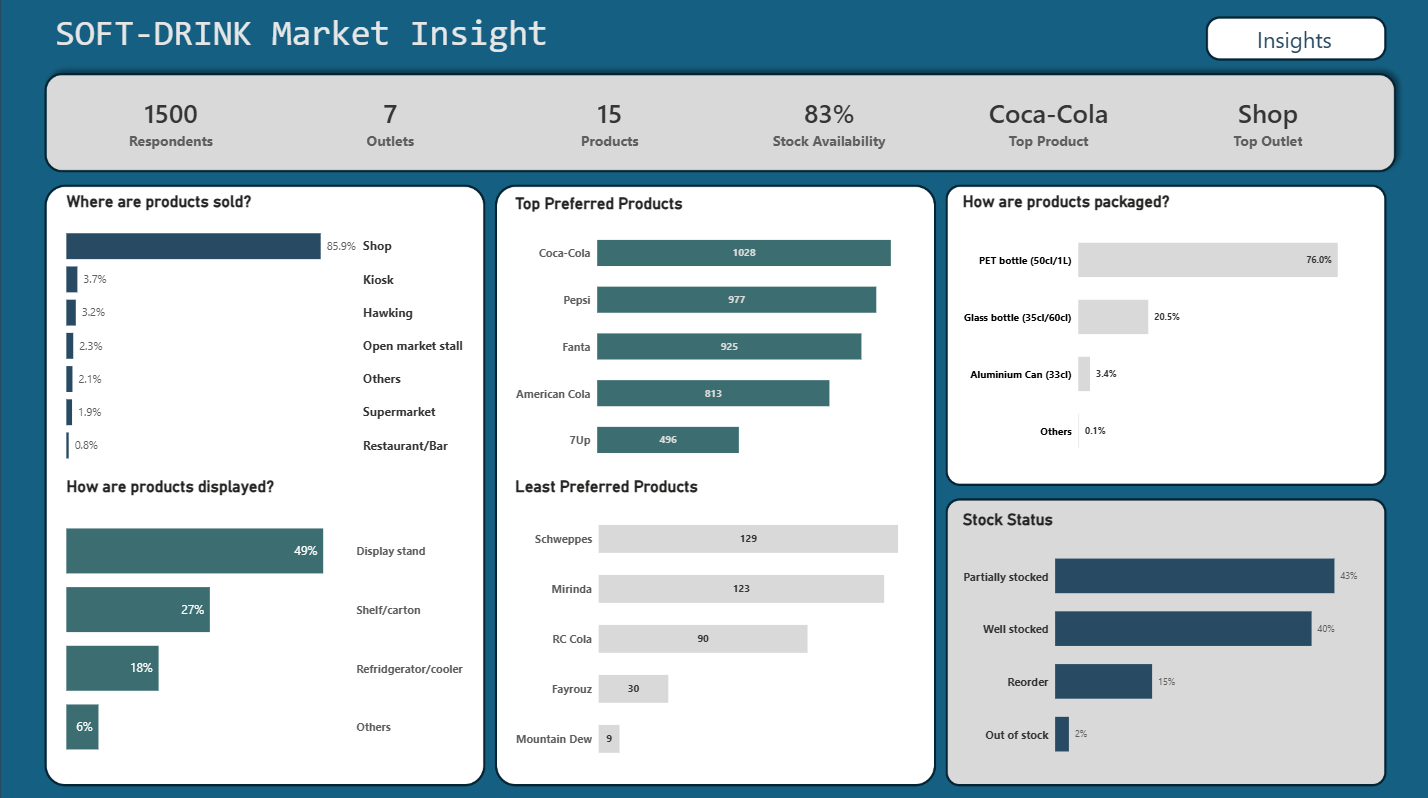

What the dashboard file says about the page in this screenshot:
{"tool":"powerbi","page":{"name":"Analysis","canvas":[1920,1080],"ordinal":2},"visuals":[{"type":"cardVisual","fields":{"Data":["_Measures.Respondents","_Measures.Outlet Count","_Measures.Product","_Measures.Stock Availability (%)","_Measures.Top Product","_Measures.Top Outlet"]},"box":[70.3,105.5,1792.2,130.6],"z":0},{"type":"actionButton","title":"Insights","box":[1621.7,33.5,229,50.3],"z":1000,"group":"g1"},{"type":"clusteredBarChart","title":"How are products displayed?","fields":{"Category":["Display.displayType"],"Y":["Sum(Display.displayCount)"]},"box":[85.4,646.5,542.7,403.7],"z":1000},{"type":"clusteredBarChart","title":"Where are products sold?","fields":{"Category":["Dim_Outlet.OutletType"],"Y":["CountNonNull(Fact.OutletID)"]},"box":[85.4,264.6,542.7,380.2],"z":2000},{"type":"clusteredBarChart","title":"Least Preferred Products","fields":{"Category":["Products.Attribute"],"Y":["_Measures.Produts"]},"box":[686.7,646.5,554.4,403.7],"z":3000},{"type":"clusteredBarChart","title":"Top Preferred  Products","fields":{"Category":["Products.Attribute"],"Y":["_Measures.Produts"]},"box":[686.7,266.3,554.4,380.2],"z":4000},{"type":"clusteredBarChart","title":"How are products packaged?","fields":{"Category":["PackageType.packageType"],"Y":["Sum(PackageType.packageTypeCount)"]},"box":[1286.4,264.6,552.7,381.9],"z":5000},{"type":"clusteredBarChart","title":"Stock Status","fields":{"Category":["Fact.Stock condition"],"Y":["CountNonNull(Fact.Stock condition)"]},"box":[1286.4,690.1,541,360.1],"z":6000},{"type":"textbox","box":[70.3,18.4,929.6,87.1],"z":7000},{"type":"group","id":"g1","title":"Insight panel","box":[675,32.5,1177.4,996.5],"z":8000}]}

Visuals, with their boxes in screenshot pixels (x1, y1, x2, y2), scaled from the page's 1920x1080 canvas onto the 1428x798 screenshot:
cardVisual - _Measures.Respondents x _Measures.Outlet Count: rect(52, 78, 1385, 174)
"Insights" actionButton: rect(1206, 25, 1376, 62)
"How are products displayed?" clusteredBarChart: rect(64, 478, 467, 776)
"Where are products sold?" clusteredBarChart: rect(64, 196, 467, 476)
"Least Preferred Products" clusteredBarChart: rect(511, 478, 923, 776)
"Top Preferred  Products" clusteredBarChart: rect(511, 197, 923, 478)
"How are products packaged?" clusteredBarChart: rect(957, 196, 1368, 478)
"Stock Status" clusteredBarChart: rect(957, 510, 1359, 776)
textbox: rect(52, 14, 744, 78)
"Insight panel" group: rect(502, 24, 1378, 760)
